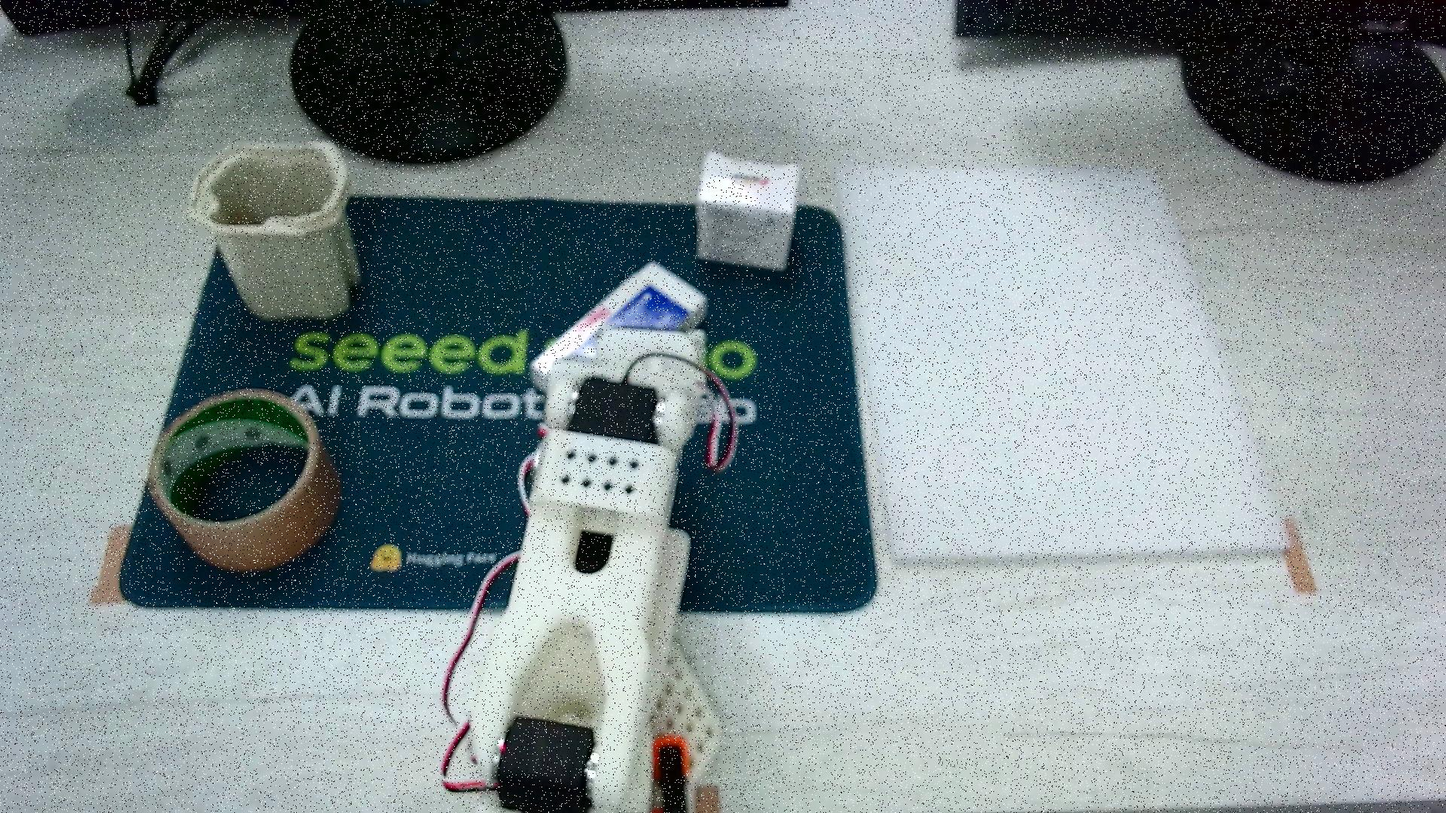eraser: (695, 151, 800, 271)
